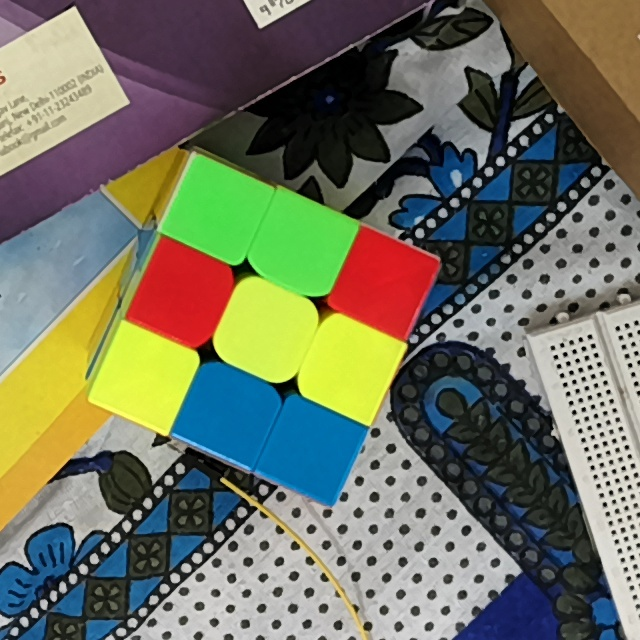tile: (233, 297, 299, 362), (268, 212, 334, 276), (351, 250, 415, 314), (153, 261, 216, 325), (279, 419, 346, 479), (185, 181, 247, 245), (113, 349, 179, 408), (319, 338, 379, 399), (198, 387, 260, 443)
